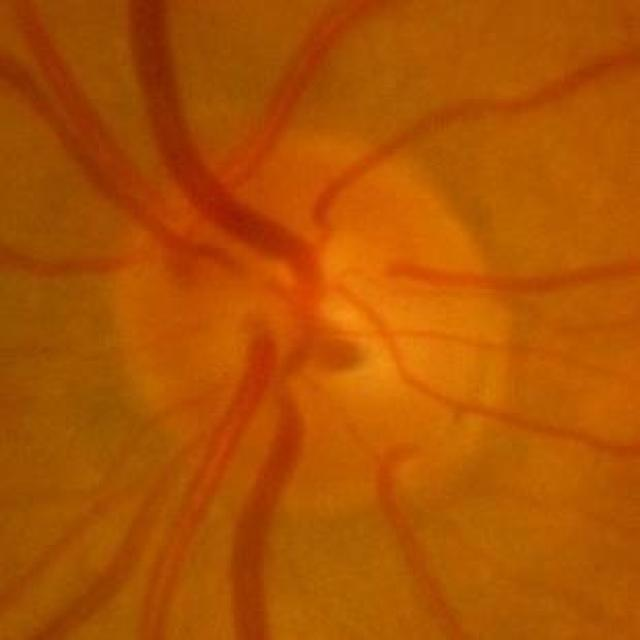OC: (265, 273, 398, 401)
OD: (110, 134, 508, 534)
